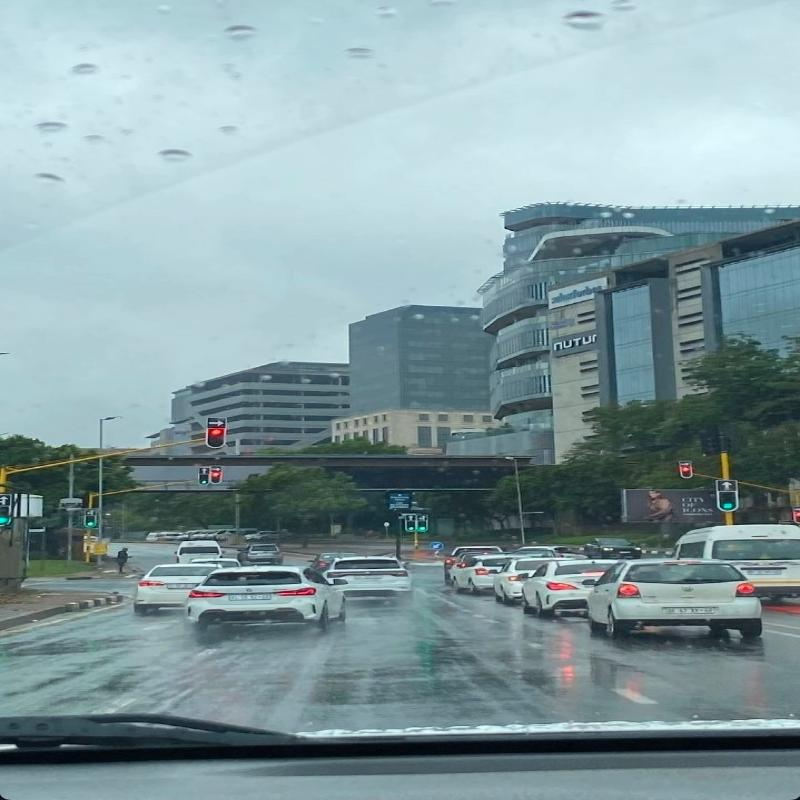license plate on a car: (665, 607, 718, 615), (228, 594, 273, 600), (744, 569, 783, 575), (166, 584, 195, 589)
